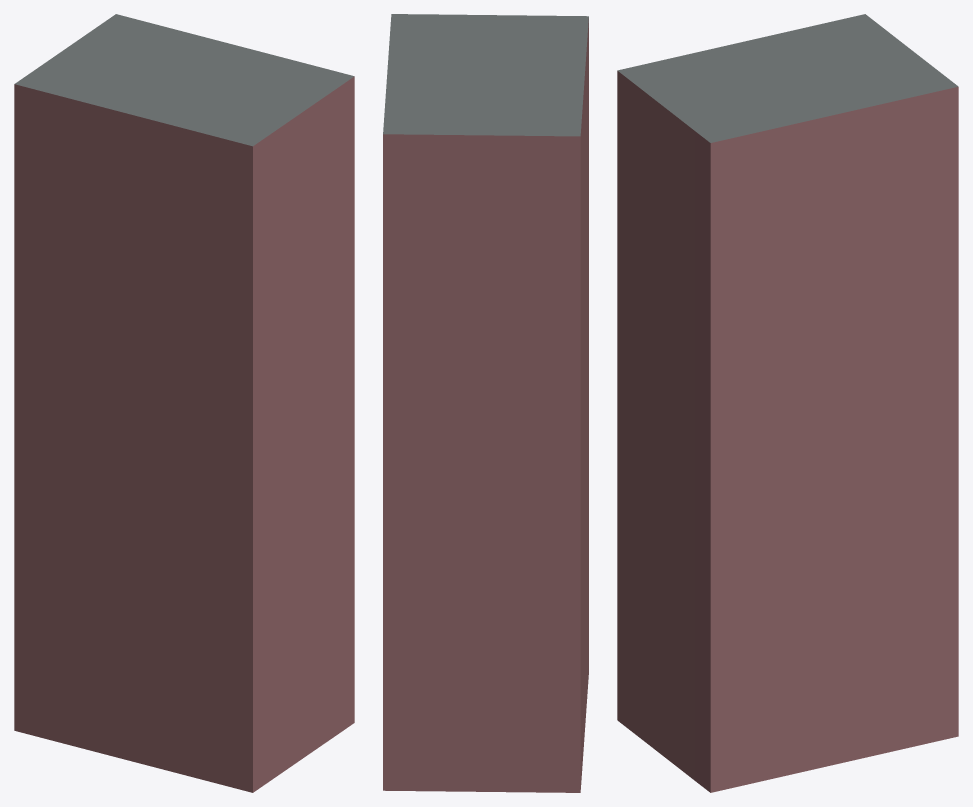
The model's file is nyc-1016044-0.glb.
The picture shows the model from 3 angles, left to right: view 1: azimuth 30°, elevation 25°; view 2: azimuth 150°, elevation 25°; view 3: azimuth 270°, elevation 25°; orthographic projection.
Parts seen in each view (by area): view 1: nyc-1016044-0; view 2: nyc-1016044-0; view 3: nyc-1016044-0.
Part boxes in pixels (bbox=[...]): nyc-1016044-0: bbox=[14, 14, 354, 792]; nyc-1016044-0: bbox=[383, 14, 588, 792]; nyc-1016044-0: bbox=[617, 14, 958, 792].
Bounding box in the file's own units: 29.86 × 70.06 × 33.36.
